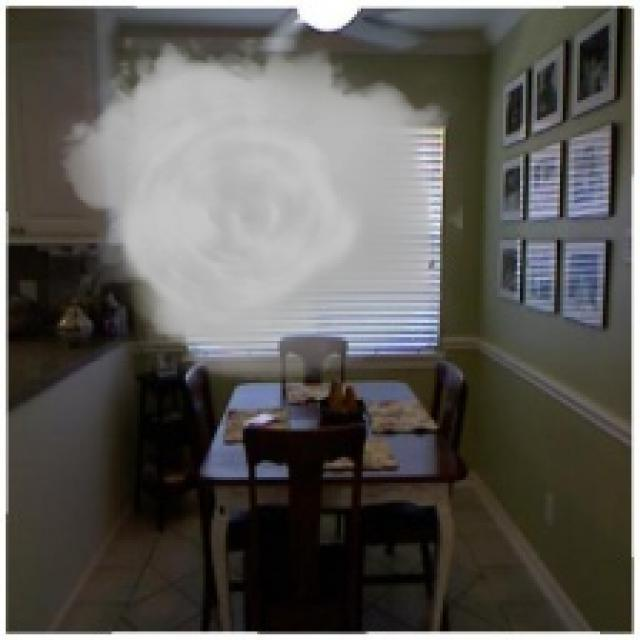smoke: (48, 37, 463, 383)
